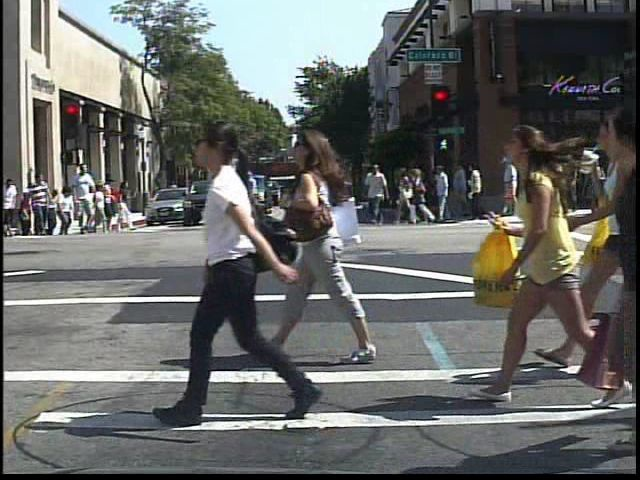person: (169, 111, 318, 429), (494, 103, 594, 404), (275, 119, 382, 361), (528, 107, 608, 371), (69, 161, 97, 235), (25, 172, 51, 239), (499, 150, 522, 216), (2, 173, 23, 240), (105, 175, 125, 214), (165, 174, 183, 209)
